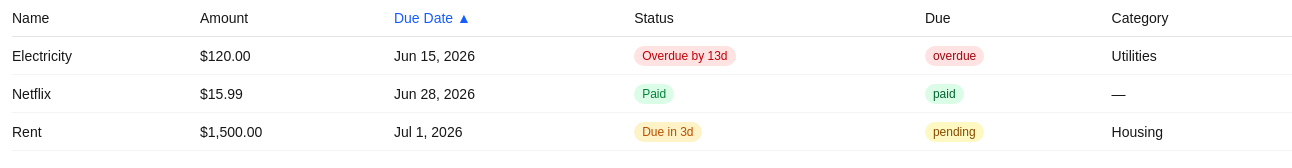
Test: DuesList component › sorting › shows descending arrow after second click
Click the column heading "Due Date".
click(424, 18)  # box left=394, top=0, right=634, bottom=36
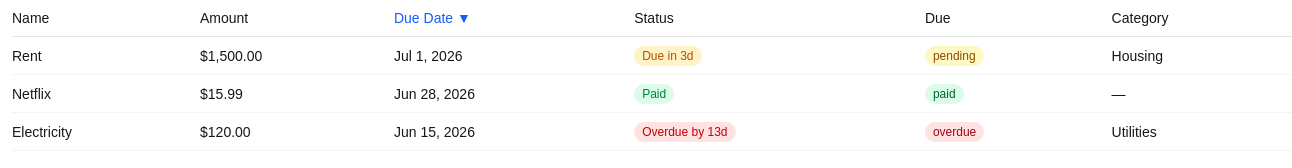
Now the text "▼" is shown, box left=457, top=10, right=471, bottom=26
